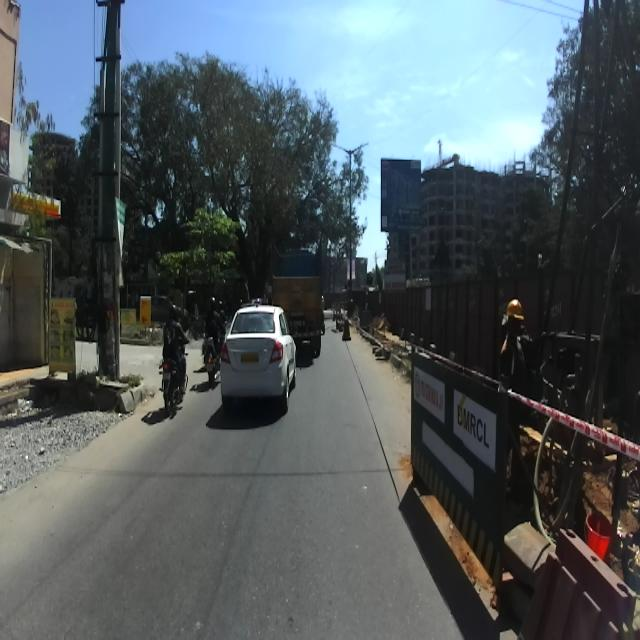barrier ahead at: (410, 349, 567, 596)
car ahead at: (218, 296, 301, 418)
electric pole ahead at: (76, 0, 146, 420)
motorcycle ahead at: (158, 356, 194, 423)
